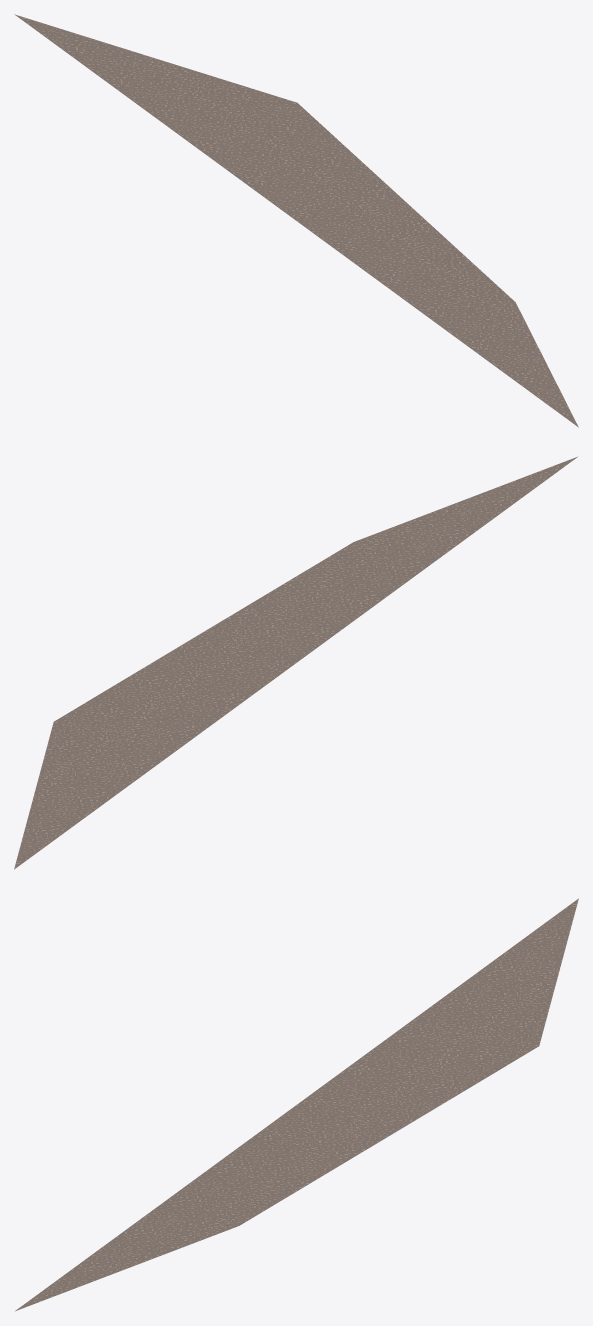
File: kd_connection_world-inner_surface_19_43.glb
The picture shows the model from 3 angles, top to bottom: view 1: azimuth 30°, elevation 25°; view 2: azimuth 150°, elevation 25°; view 3: azimuth 330°, elevation 25°; orthographic projection.
Visible parts, largest first — view 1: kd_connection_world-inner_surface_19_43; view 2: kd_connection_world-inner_surface_19_43; view 3: kd_connection_world-inner_surface_19_43.
Boxes of the visible parts, <box> form: kd_connection_world-inner_surface_19_43: <box>14,14,578,427</box>; kd_connection_world-inner_surface_19_43: <box>14,456,577,869</box>; kd_connection_world-inner_surface_19_43: <box>15,898,578,1311</box>.
Bounding box in the file's own units: 0.6013 × 9.54e-07 × 4.83.
1 material, 1 textured.
